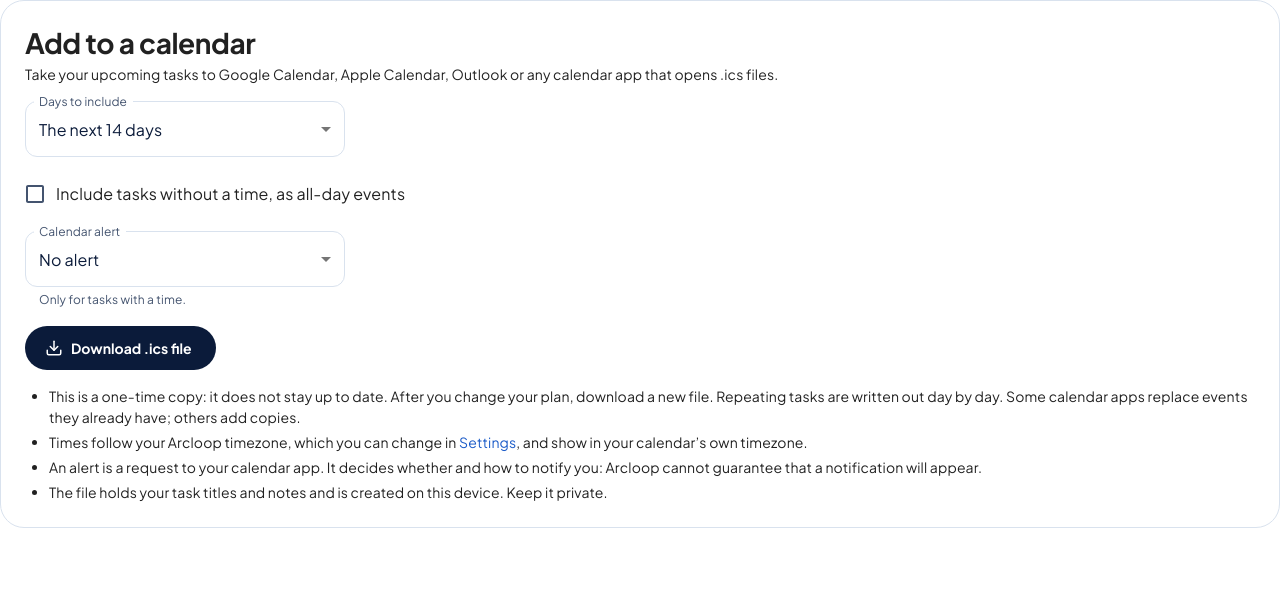
Test case: CalendarExport card › shows the service’s message in an alert when the plan cannot be read, and downloads nothing
The width and height of the screenshot is (1280, 612).
What coordinates should you click on to do the following:
click the button "Download .ics file"
I would click on:
 (120, 348)
Its box is [25,326,216,370].
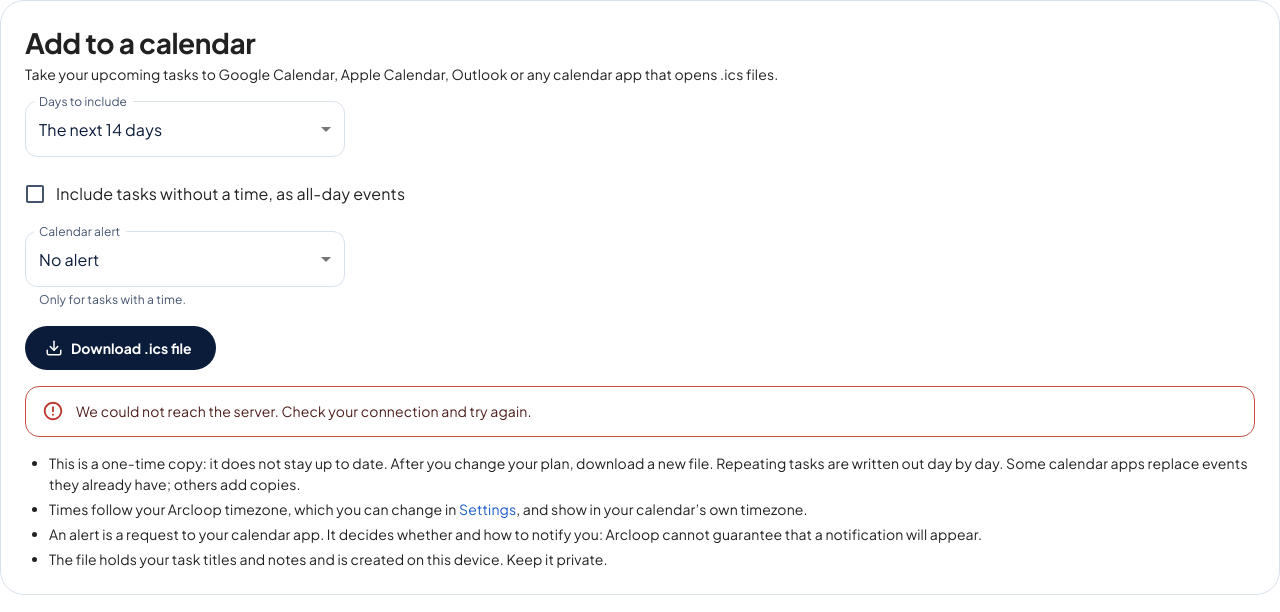
Now the message shows "We could not reach the server.", box [76,402,532,420]
